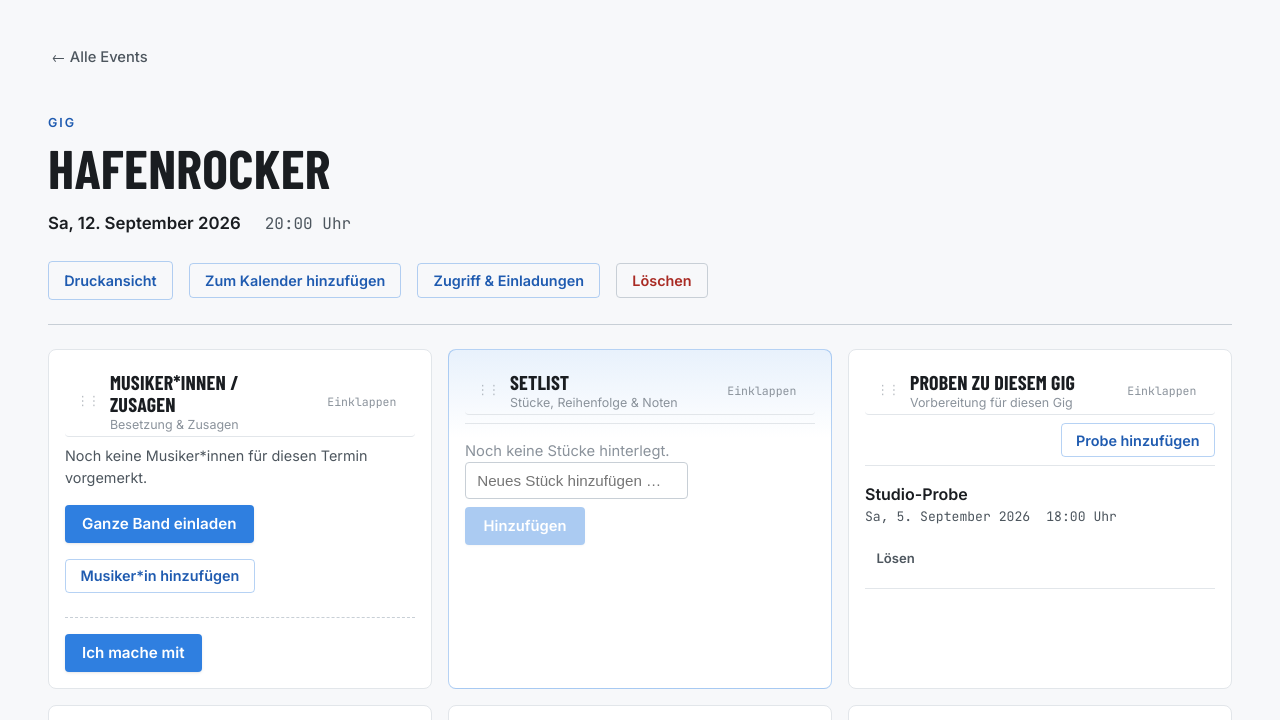
Test: EventDetailComponent › should unlink a rehearsal from the concert without deleting it
The image size is (1280, 720).
Click the button with class "rehearsal__unlink-btn".
click(896, 558)  # box [865,543,926,572]
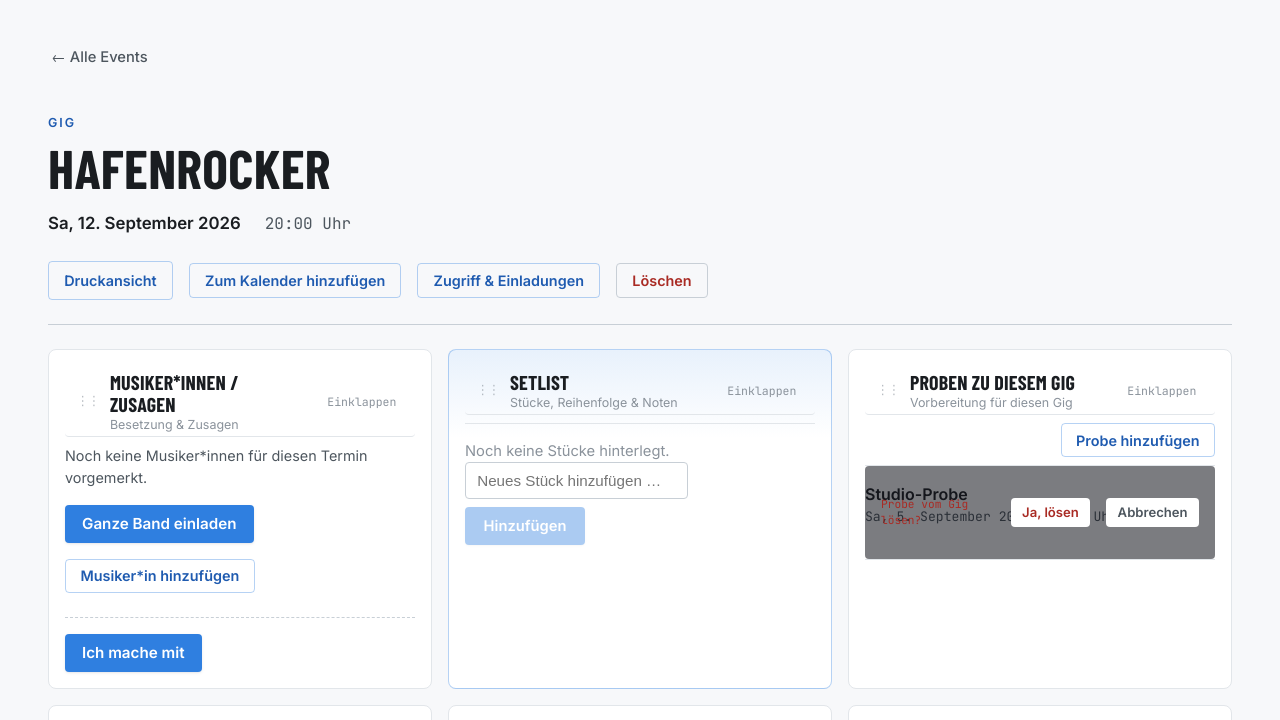
Click the button with class "rehearsal__unlink-btn--danger".
click(1050, 512)  # box [1011,498,1090,527]
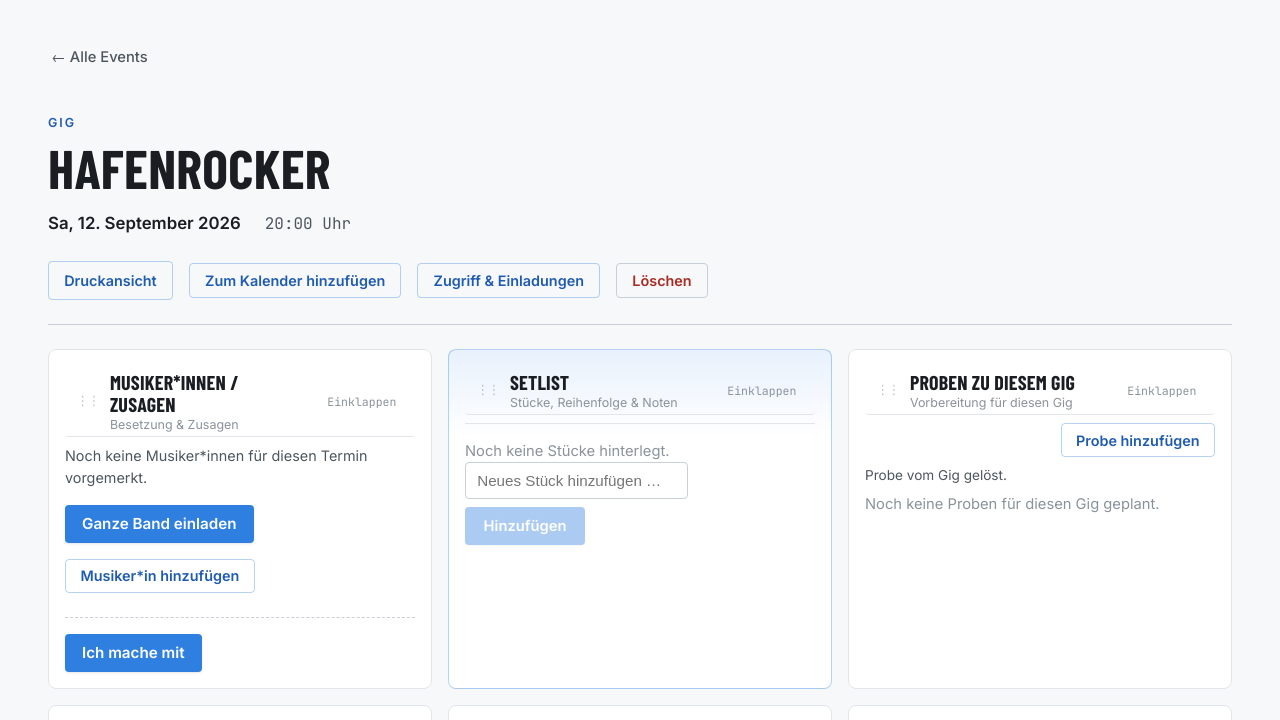
Expected: the text "Probe vom Gig gelöst." is shown, [865,467,1007,483]
Expected: the list item with class "rehearsal" is gone
